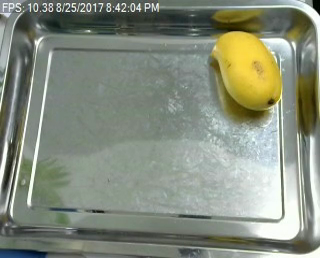Mango: (207, 25, 288, 113)
